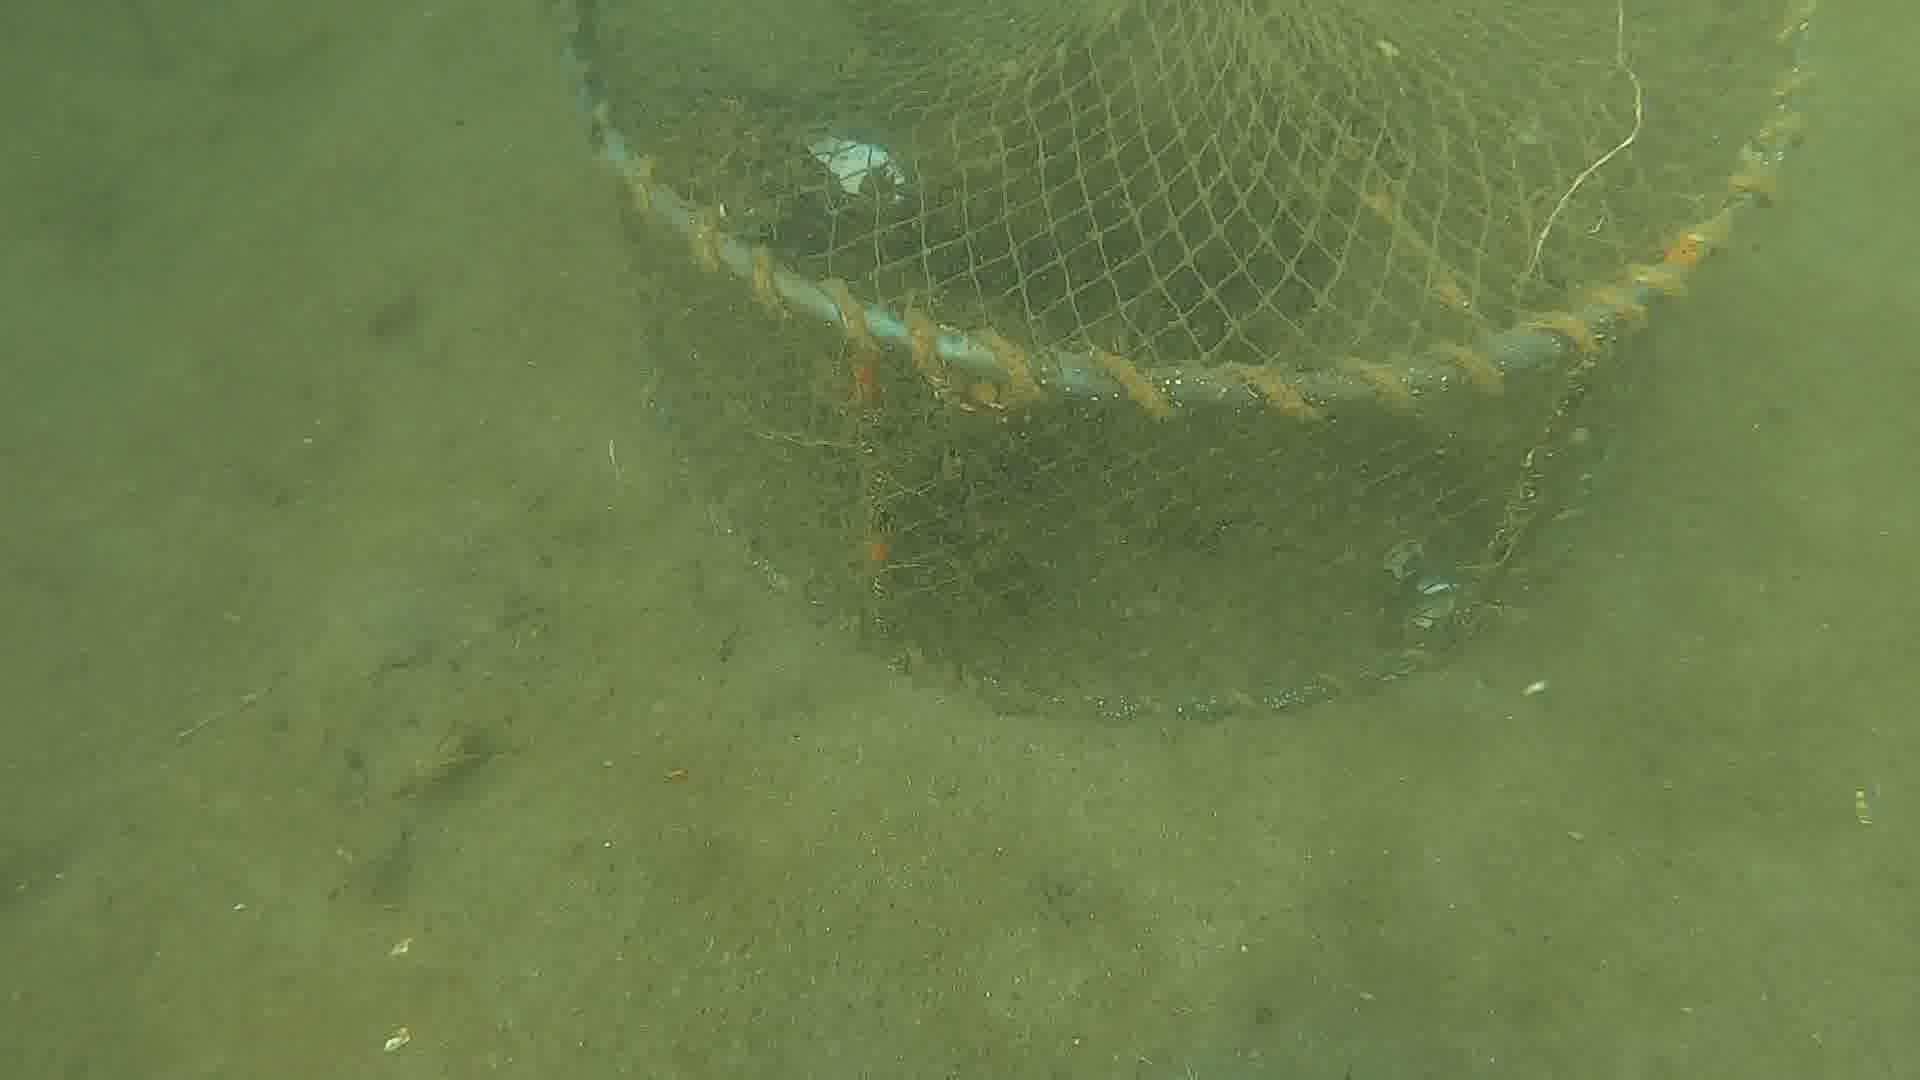circular fish trap: (568, 0, 1815, 720)
